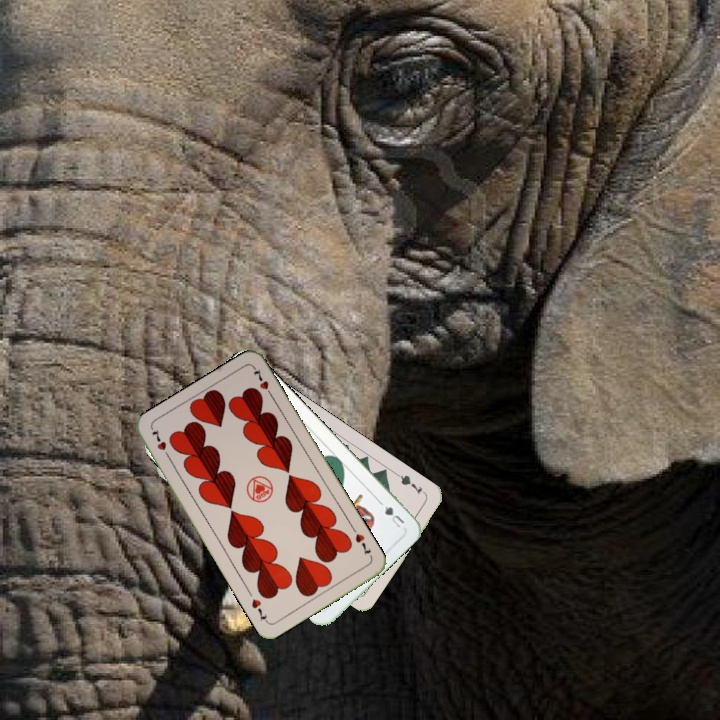G7: (393, 470, 429, 498)
GU: (381, 502, 407, 530)
H7: (148, 425, 174, 462), (351, 529, 374, 558)
